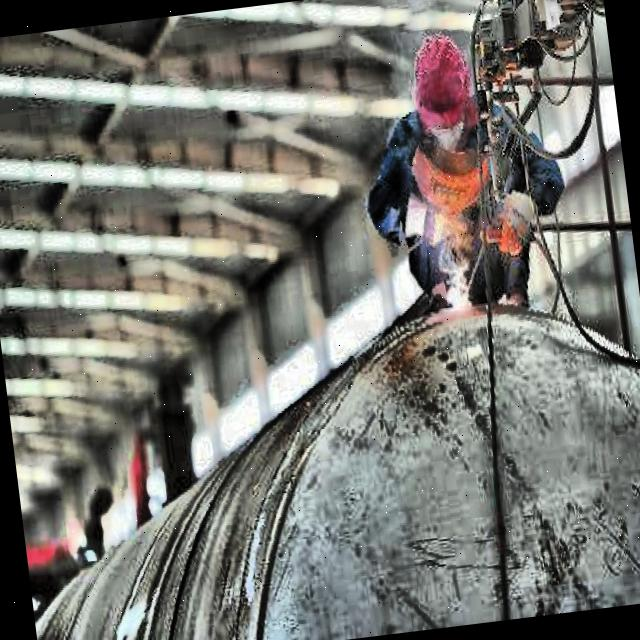helmet: (401, 20, 484, 150)
